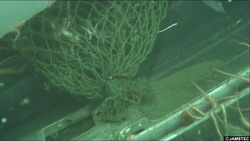fishing net: (9, 1, 176, 113)
